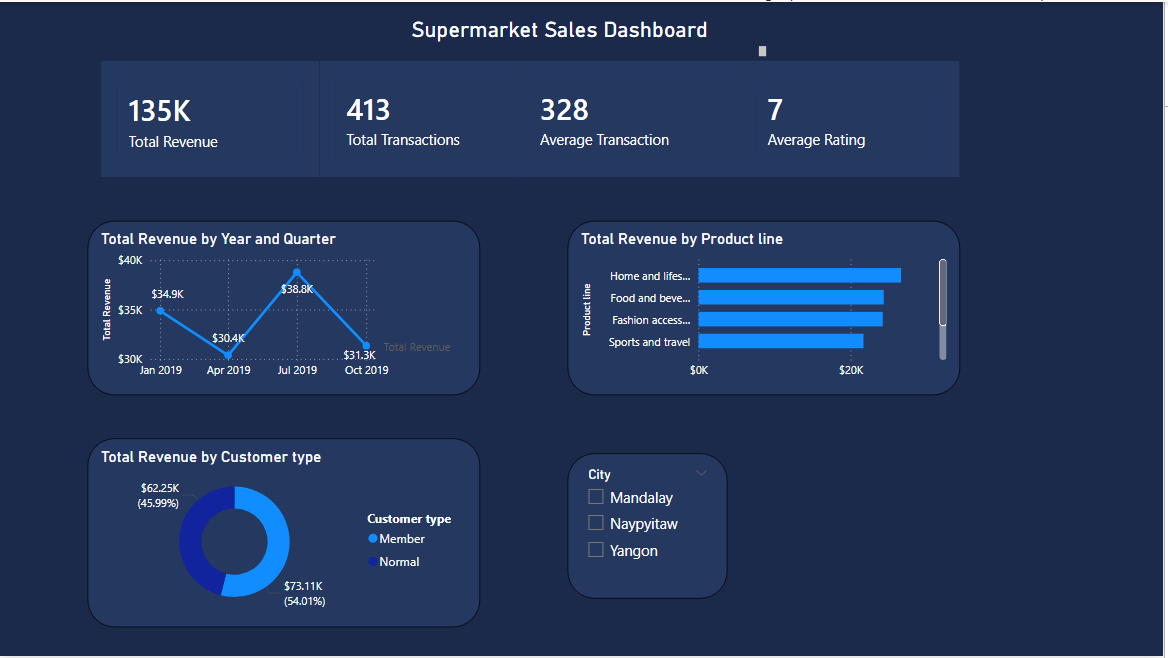

The page's visual inventory and layout, read from the dashboard file:
{"tool":"powerbi","page":{"name":"Page 1","canvas":[1280,720],"ordinal":0},"visuals":[{"type":"lineChart","fields":{"Category":["supermarket_sales.Date.Variation.Date Hierarchy.Year","supermarket_sales.Date.Variation.Date Hierarchy.Quarter","supermarket_sales.Date.Variation.Date Hierarchy.Month","supermarket_sales.Date.Variation.Date Hierarchy.Day"],"Y":["supermarket_sales.Total Revenue"]},"box":[96,240,432,192],"z":0},{"type":"cardVisual","fields":{"Data":["supermarket_sales.Average Rating"]},"box":[816,64,240,128],"z":1000},{"type":"clusteredBarChart","fields":{"Category":["supermarket_sales.Product line"],"Y":["supermarket_sales.Total Revenue"]},"box":[624,240,432,192],"z":2000},{"type":"cardVisual","fields":{"Data":["supermarket_sales.Total Transactions"]},"box":[352,64,224,128],"z":3000},{"type":"donutChart","fields":{"Category":["supermarket_sales.Customer type"],"Y":["supermarket_sales.Total Revenue"]},"box":[96,480,432,208],"z":4000},{"type":"cardVisual","fields":{"Data":["supermarket_sales.Average Transaction"]},"box":[565.3,64,256,128],"z":5000},{"type":"slicer","fields":{"Values":["supermarket_sales.City"]},"box":[624,496,176,160],"z":6000},{"type":"textbox","title":"Supermarket Sales Dashboard ","box":[384,16,464,48],"z":7000},{"type":"cardVisual","fields":{"Data":["supermarket_sales.Total Revenue"]},"box":[112,64,240,128],"z":8000}]}

Visuals, with their boxes in screenshot pixels (x1, y1, x2, y2), scaled from the page's 1280x720 canvas onto the 1168x658 screenshot:
lineChart - supermarket_sales.Date.Variation.Date Hierarchy.Year x supermarket_sales.Date.Variation.Date Hierarchy.Quarter: <box>88,219,482,395</box>
cardVisual - supermarket_sales.Average Rating: <box>745,58,964,175</box>
clusteredBarChart - supermarket_sales.Product line x supermarket_sales.Total Revenue: <box>569,219,964,395</box>
cardVisual - supermarket_sales.Total Transactions: <box>321,58,526,175</box>
donutChart - supermarket_sales.Customer type x supermarket_sales.Total Revenue: <box>88,439,482,629</box>
cardVisual - supermarket_sales.Average Transaction: <box>516,58,749,175</box>
slicer - supermarket_sales.City: <box>569,453,730,600</box>
"Supermarket Sales Dashboard " textbox: <box>350,15,774,58</box>
cardVisual - supermarket_sales.Total Revenue: <box>102,58,321,175</box>
